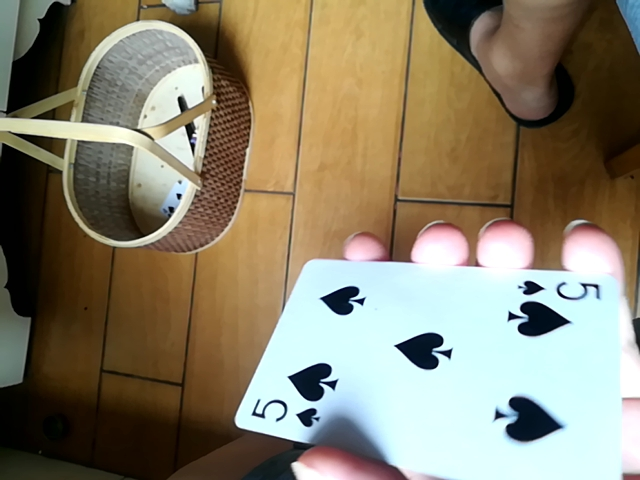ht 5: (232, 253, 633, 479)
